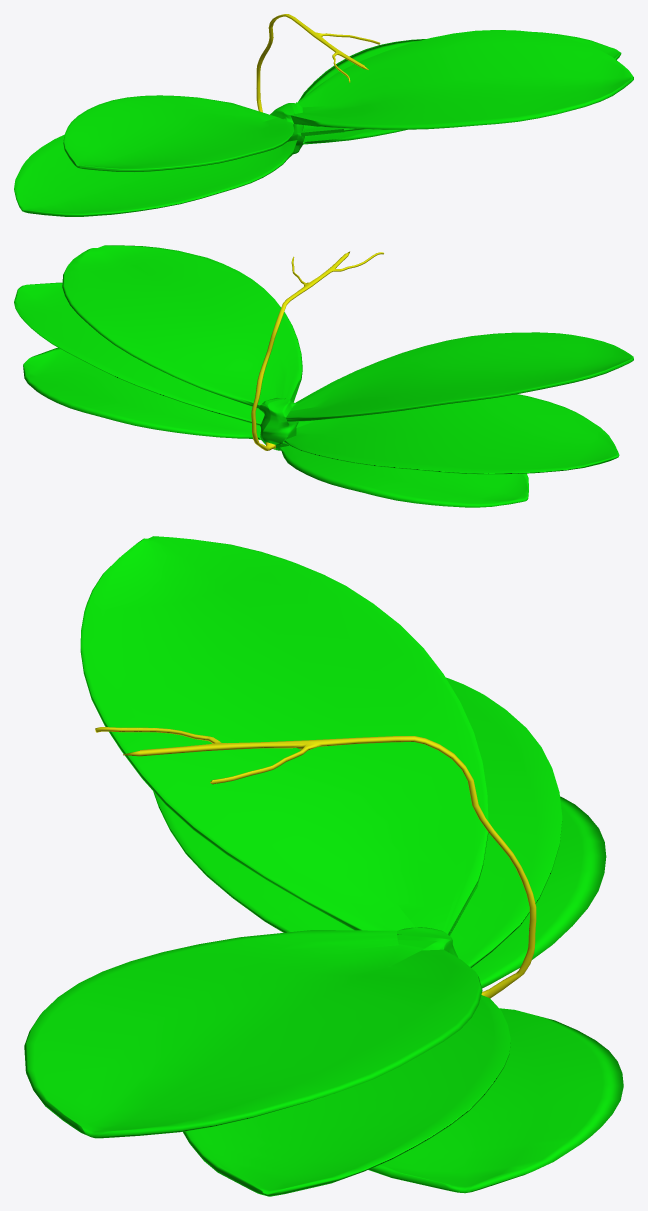
Rendered from plantLow.fbx.
3 views of the same model, one above another, from view 1: azimuth 30°, elevation 25°; view 2: azimuth 150°, elevation 25°; view 3: azimuth 270°, elevation 25° (orthographic). The views are drawn at different scales.
Parts seen in each view (by area): view 1: polySurface291, polySurface221, polySurface269, polySurface264, polySurface307, polySurface252; view 2: polySurface291, polySurface269, polySurface221, polySurface264, polySurface252, polySurface294, polySurface307; view 3: polySurface221, polySurface291, polySurface252, polySurface269, polySurface264, polySurface294, polySurface307.
Boxes of the visible parts, x1,y1,x2,y2 form: polySurface291: (291, 30, 633, 129); polySurface221: (63, 95, 304, 171); polySurface269: (14, 134, 297, 216); polySurface264: (298, 39, 425, 144); polySurface307: (256, 14, 380, 112); polySurface252: (301, 31, 621, 132); polySurface291: (62, 245, 302, 408); polySurface269: (283, 394, 619, 474); polySurface221: (259, 332, 633, 450); polySurface264: (23, 347, 260, 439); polySurface252: (14, 282, 264, 425); polySurface294: (280, 445, 528, 507); polySurface307: (251, 251, 383, 450); polySurface221: (80, 536, 488, 957); polySurface291: (24, 930, 482, 1138); polySurface252: (183, 995, 510, 1196); polySurface269: (153, 677, 562, 967); polySurface264: (368, 1008, 623, 1193); polySurface294: (471, 796, 606, 988); polySurface307: (95, 727, 536, 998).
Size of the model in its own units: 45.95 by 10.43 by 20.12.
